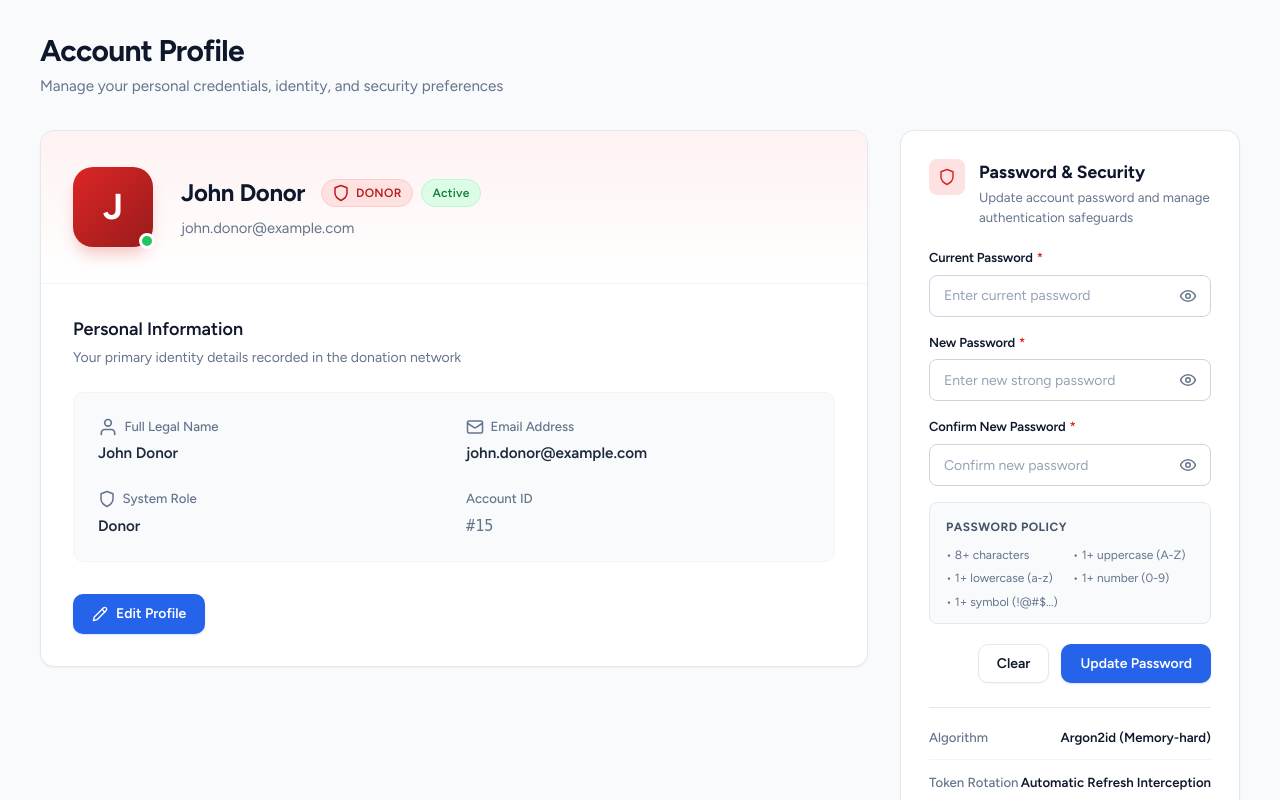
Test: Profile Page Component › switches to edit mode and cancels edit mode correctly
Expected: the element with test id "profile-view-section" is shown, [73,316,835,634]
What coordinates should you click on to do the following:
click the button with test id "edit-profile-btn"
I would click on:
 (139, 614)
Its box is [73,594,205,634].
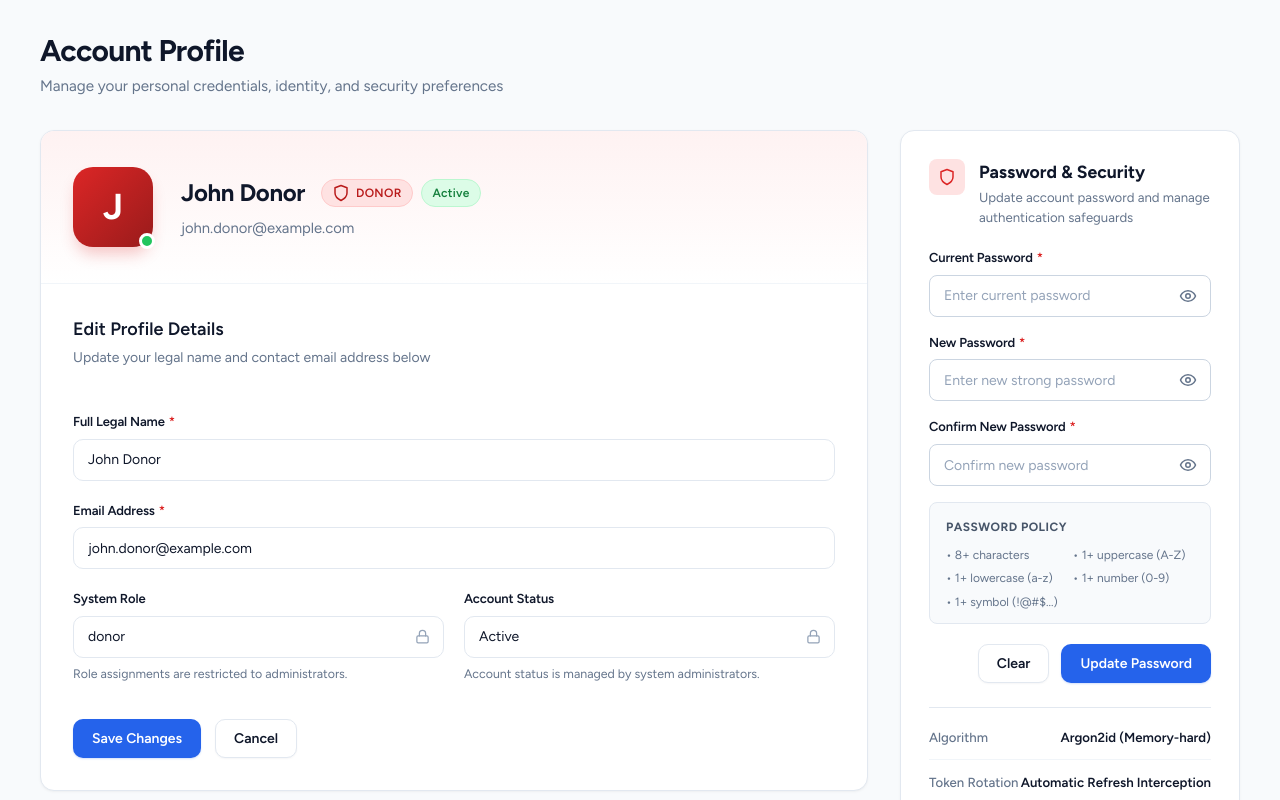
Now the form with test id "profile-edit-form" is shown, box [73,316,835,758]
Now the field with test id "input-full-name" holds "John Donor", box [73,439,835,481]
Now the field with test id "input-email" holds "john.donor@example.com", box [73,527,835,569]
Note: Cancel edit
What coordinates should you click on to do the following:
click the button with test id "cancel-edit-btn"
I would click on:
 (256, 738)
Its box is [215,718,297,758].
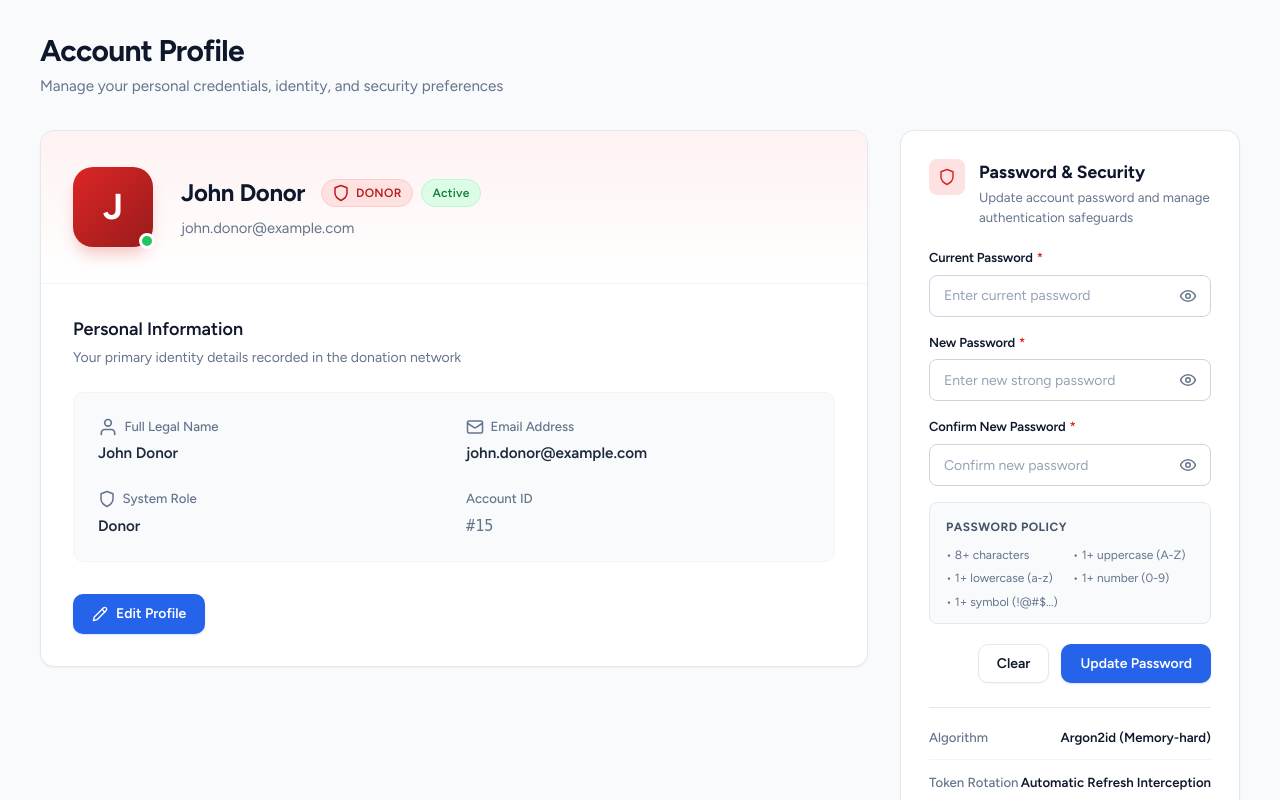
Now the form with test id "profile-edit-form" is gone
Now the element with test id "profile-view-section" is shown, box [73,316,835,634]
